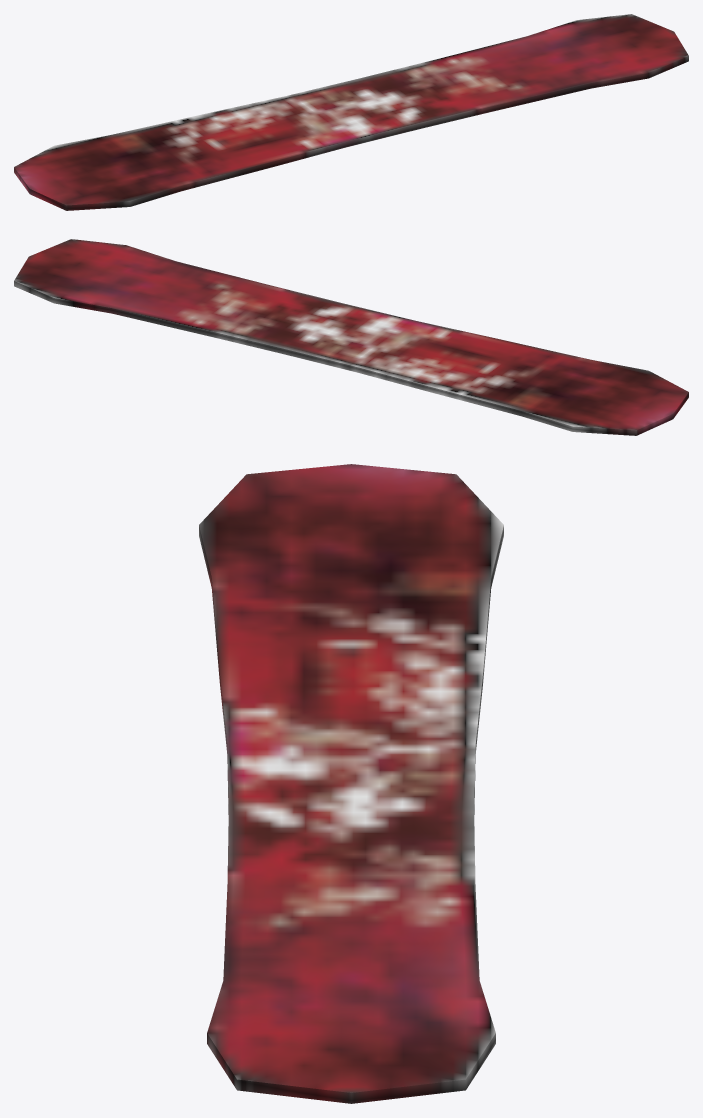
File: SM_Snowboard.fbx
The picture shows the model from 3 angles, top to bottom: view 1: azimuth 30°, elevation 25°; view 2: azimuth 150°, elevation 25°; view 3: azimuth 270°, elevation 25°; orthographic projection. The views are drawn at different scales.
Visible parts, largest first — view 1: Cube; view 2: Cube; view 3: Cube.
Boxes of the visible parts, bbox=[...] form: Cube: bbox=[14, 14, 688, 210]; Cube: bbox=[14, 239, 688, 435]; Cube: bbox=[199, 464, 503, 1103].
Size of the model in its own units: 161 by 33 by 1.3.
